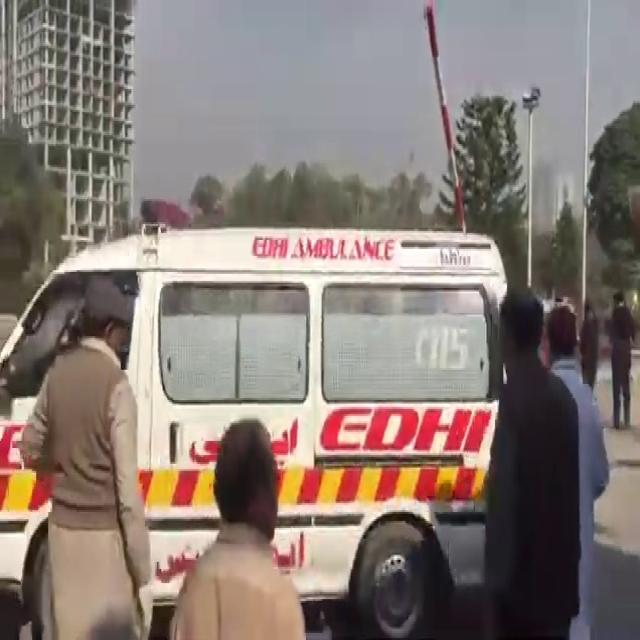ambulance: (0, 230, 565, 617)
